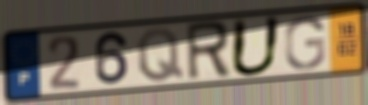2: (46, 34, 82, 93)
6: (93, 31, 131, 88)
G: (282, 14, 327, 72)
Q: (134, 26, 186, 84)
R: (184, 19, 234, 84)
U: (228, 15, 285, 79)
